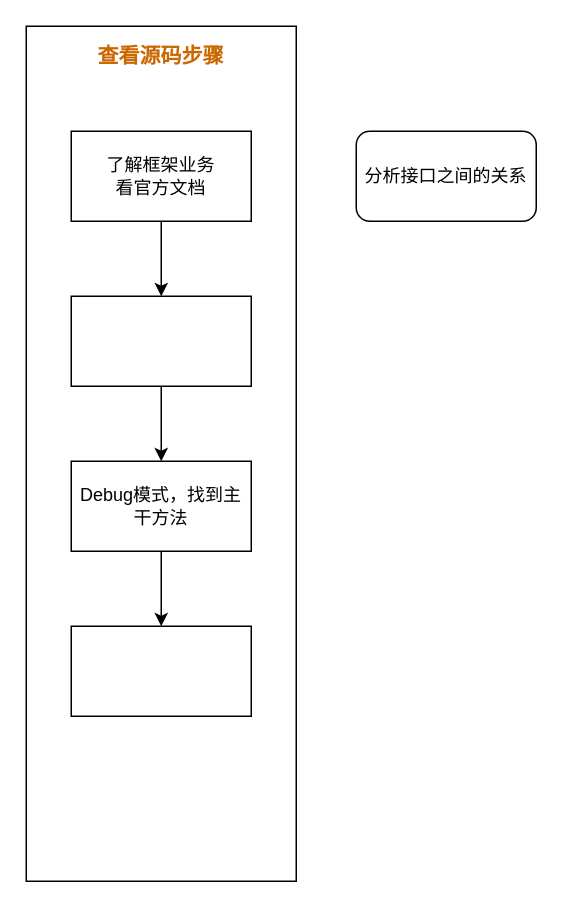
Some shapes in this 563 by 908 pixel diagram are drawn without their labels. Each missing label, with the centre of its shape:
找到入口: (x=160, y=340)
找到核心的方法: (x=160, y=670)
